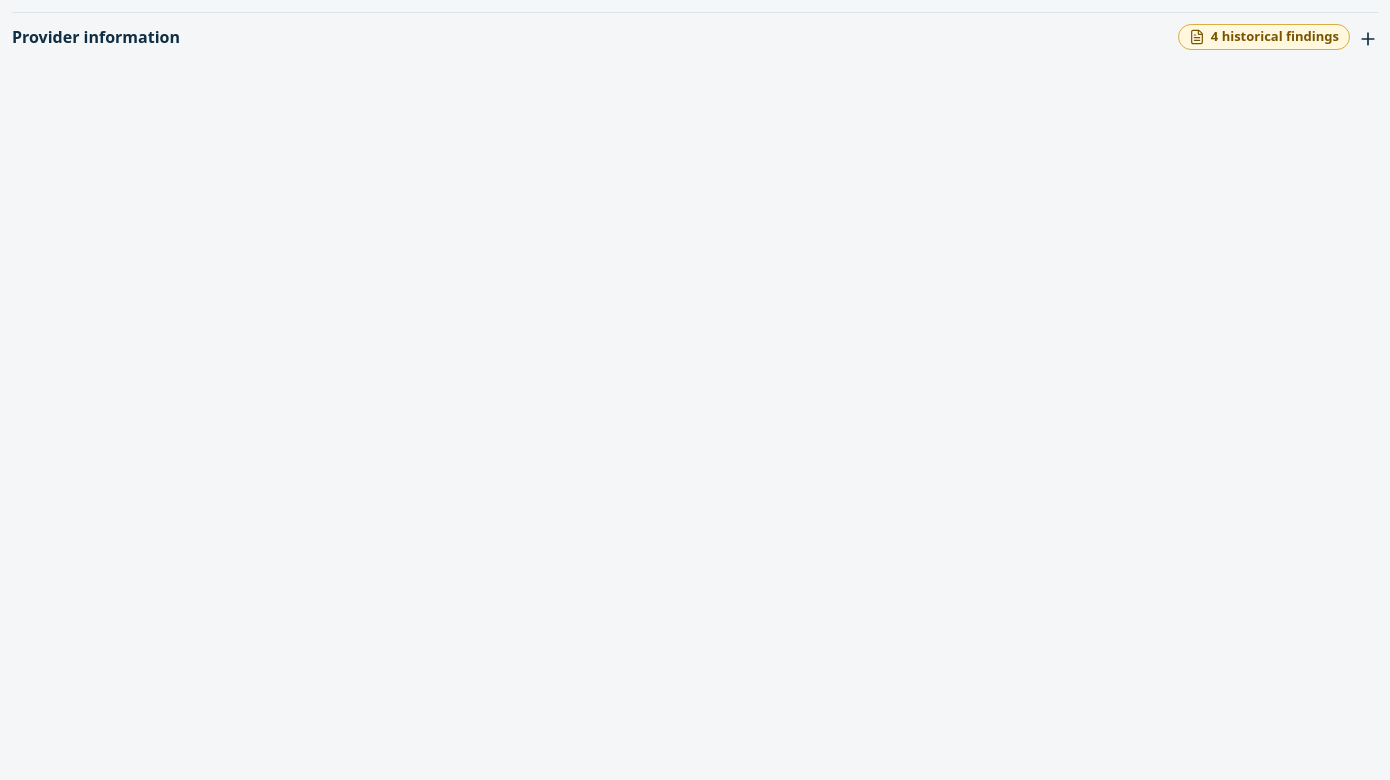
Test: opening provider information refreshes documents and directory without duplicate requests on rapid reopen
This screenshot has width=1390, height=780.
Later steps or results of the test are not shown.
Click the button "Provider information 4 historical findings": point(96, 37) top-left (12, 13), bottom-right (1378, 61)
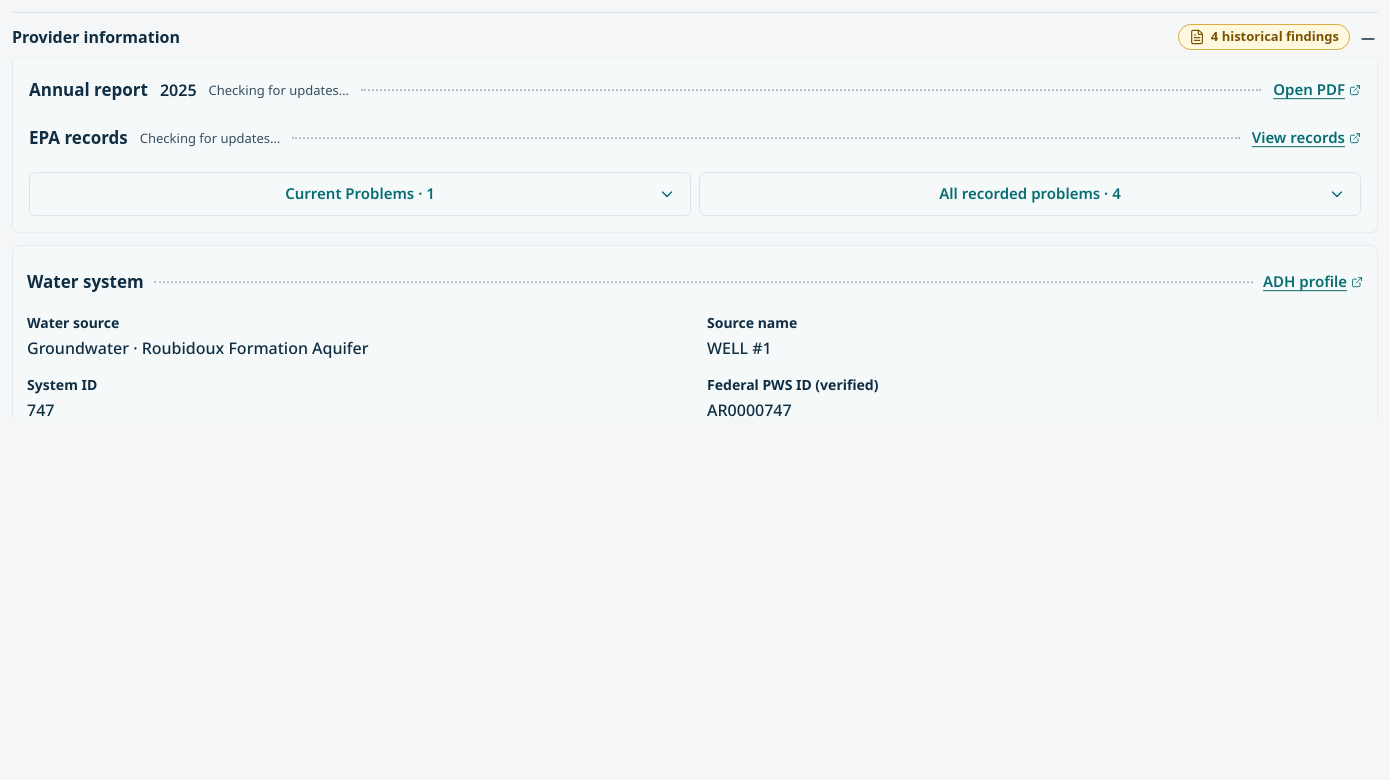
Now the text "Checking for updates…" is shown, box top-left (208, 87), bottom-right (349, 107)
Click the button "Provider information 4 historical findings": point(96, 37) top-left (12, 13), bottom-right (1378, 61)
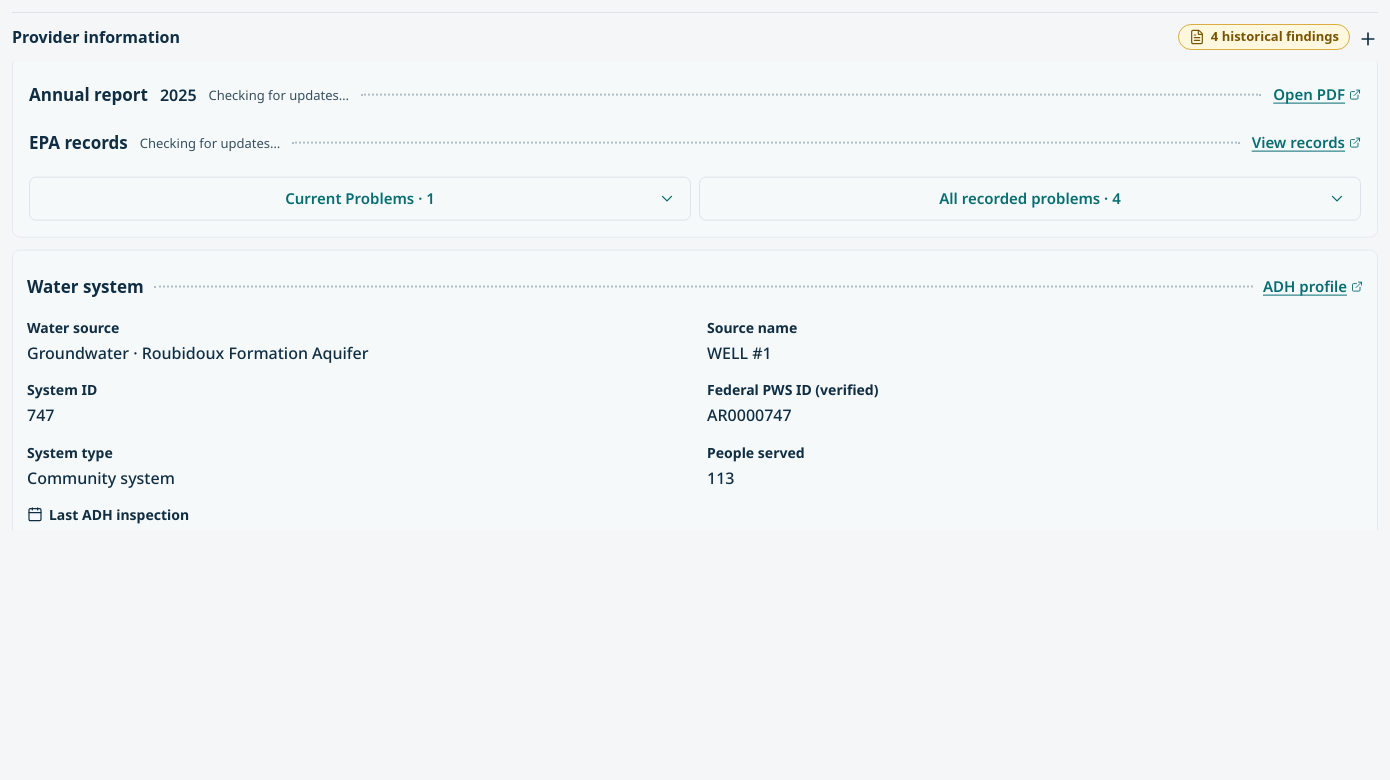
Click the button "Provider information 4 historical findings": point(96, 37) top-left (12, 13), bottom-right (1378, 61)
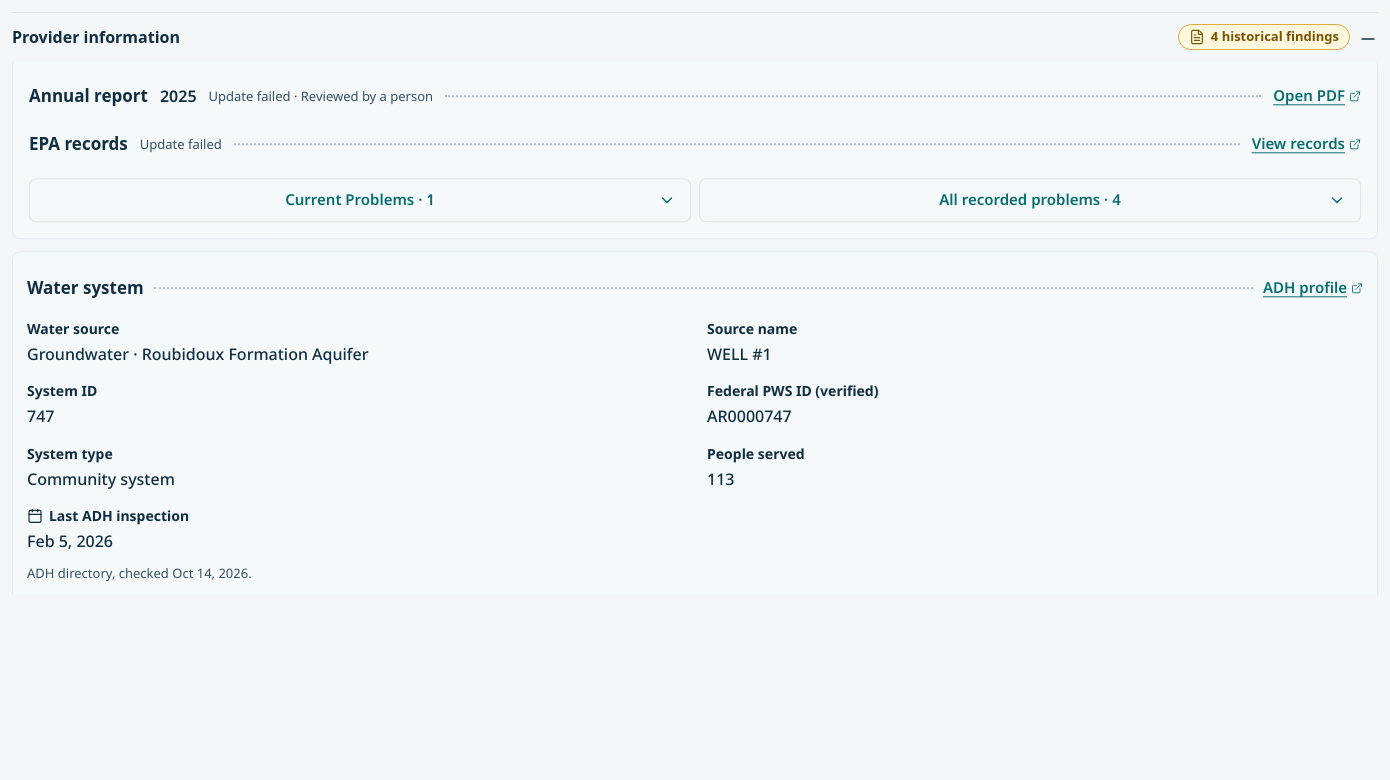
Now the heading "Annual report" is shown, box top-left (29, 87), bottom-right (148, 110)
Now the text "Update failed · Reviewed by a person" is shown, box top-left (208, 88), bottom-right (433, 109)
